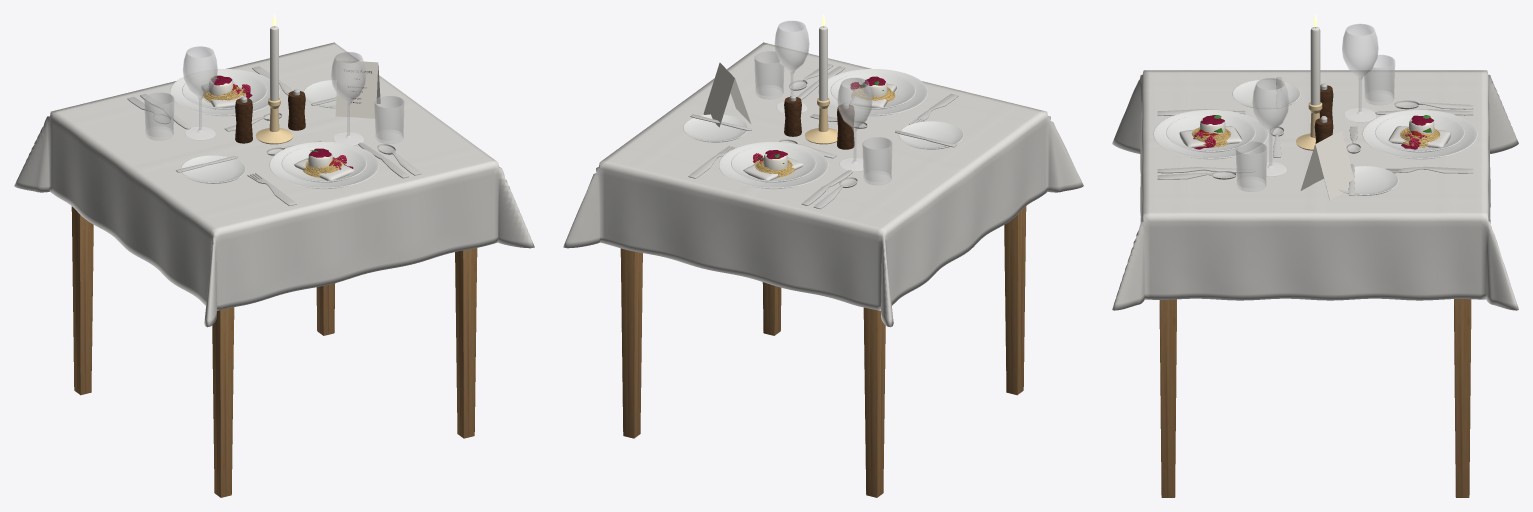
The model's file is gastro.glb.
3 renders of one model, left to right at view 1: azimuth 30°, elevation 25°; view 2: azimuth 150°, elevation 25°; view 3: azimuth 270°, elevation 25°, orthographic. The views are drawn at different scales.
Visible parts, largest first — view 1: decke, tisch_bein_1_-1, tisch_bein_-1_-1, tisch_bein_-1_1, menukarte_vorn, weinglas_1, weinglas_0, teller_gross_0, gang2_0_teller, teller_gross_1, teller_brot_0, wasserglas_1 (+8 smaller); view 2: decke, tisch_bein_1_1, tisch_bein_-1_1, tisch_bein_-1_-1, weinglas_1, teller_gross_1, weinglas_0, gang2_1_teller, gang2_0_teller, teller_gross_0, teller_brot_0, wasserglas_1 (+8 smaller); view 3: decke, tisch_bein_1_1, tisch_bein_1_-1, weinglas_1, weinglas_0, teller_gross_1, teller_gross_0, menukarte_hinten, wasserglas_0, teller_brot_0, gang2_0_teller, gang2_1_teller (+7 smaller).
Part boxes in pixels (x1,y1,x2,y2): decke: (14, 42, 534, 327); tisch_bein_1_-1: (455, 248, 477, 438); tisch_bein_-1_-1: (212, 307, 234, 497); tisch_bein_-1_1: (71, 206, 93, 395); menukarte_vorn: (335, 60, 378, 118); weinglas_1: (183, 46, 217, 139); weinglas_0: (331, 52, 365, 145); teller_gross_0: (269, 142, 378, 189); gang2_0_teller: (281, 145, 366, 181); teller_gross_1: (170, 69, 279, 116); teller_brot_0: (181, 155, 245, 183); wasserglas_1: (144, 92, 174, 140); decke: (563, 42, 1083, 327); tisch_bein_1_1: (620, 248, 642, 438); tisch_bein_-1_1: (863, 307, 885, 497); tisch_bein_-1_-1: (1004, 206, 1026, 395); weinglas_1: (837, 78, 872, 171); teller_gross_1: (719, 142, 828, 189); weinglas_0: (774, 21, 809, 113); gang2_1_teller: (731, 145, 816, 181); gang2_0_teller: (830, 72, 915, 108); teller_gross_0: (818, 69, 927, 116); teller_brot_0: (899, 121, 963, 149); wasserglas_1: (862, 137, 892, 184); decke: (1112, 70, 1518, 310); tisch_bein_1_1: (1454, 299, 1471, 497); tisch_bein_1_-1: (1159, 299, 1176, 497); weinglas_1: (1342, 24, 1378, 122); weinglas_0: (1252, 78, 1288, 176); teller_gross_1: (1362, 110, 1477, 159); teller_gross_0: (1153, 110, 1268, 159); menukarte_hinten: (1315, 130, 1355, 200); wasserglas_0: (1236, 141, 1266, 191); teller_brot_0: (1232, 79, 1300, 108); gang2_0_teller: (1166, 113, 1255, 151); gang2_1_teller: (1375, 113, 1464, 151).
Bounding box in the file's own units: 0.933 × 1.08 × 0.9538.
Materials: 22 (2 with a texture image).
